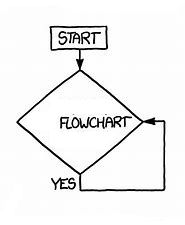arrow: (78, 115, 167, 194), (74, 48, 84, 72)
decision: (14, 69, 145, 177)
process: (48, 24, 109, 51)
text: (57, 113, 132, 129), (55, 29, 102, 47), (48, 174, 77, 190)
